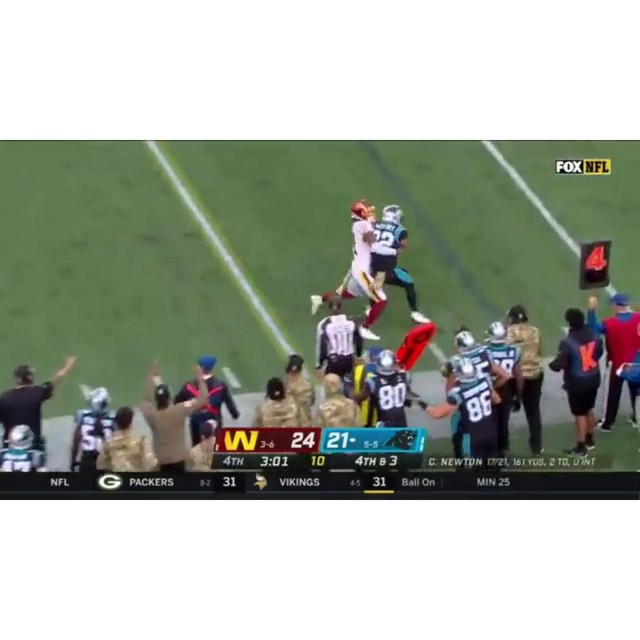american-football-player: (316, 201, 394, 336), (360, 204, 430, 333)
